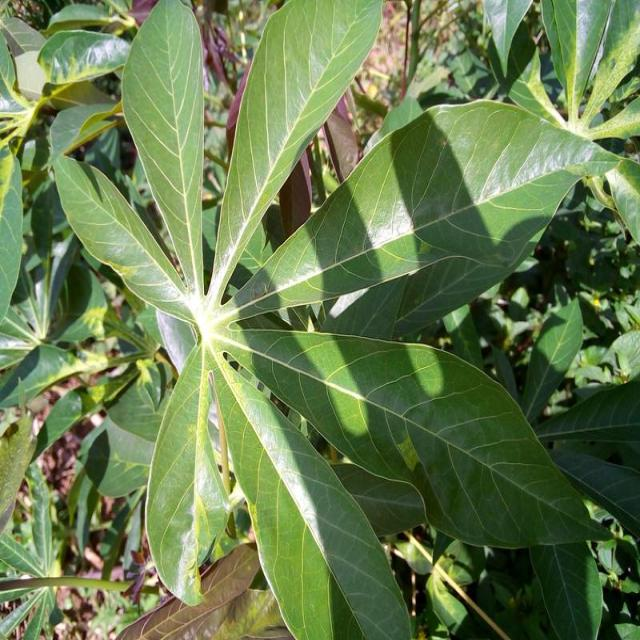cassava leaf: (45, 1, 622, 638), (228, 96, 624, 339), (206, 0, 384, 306)
